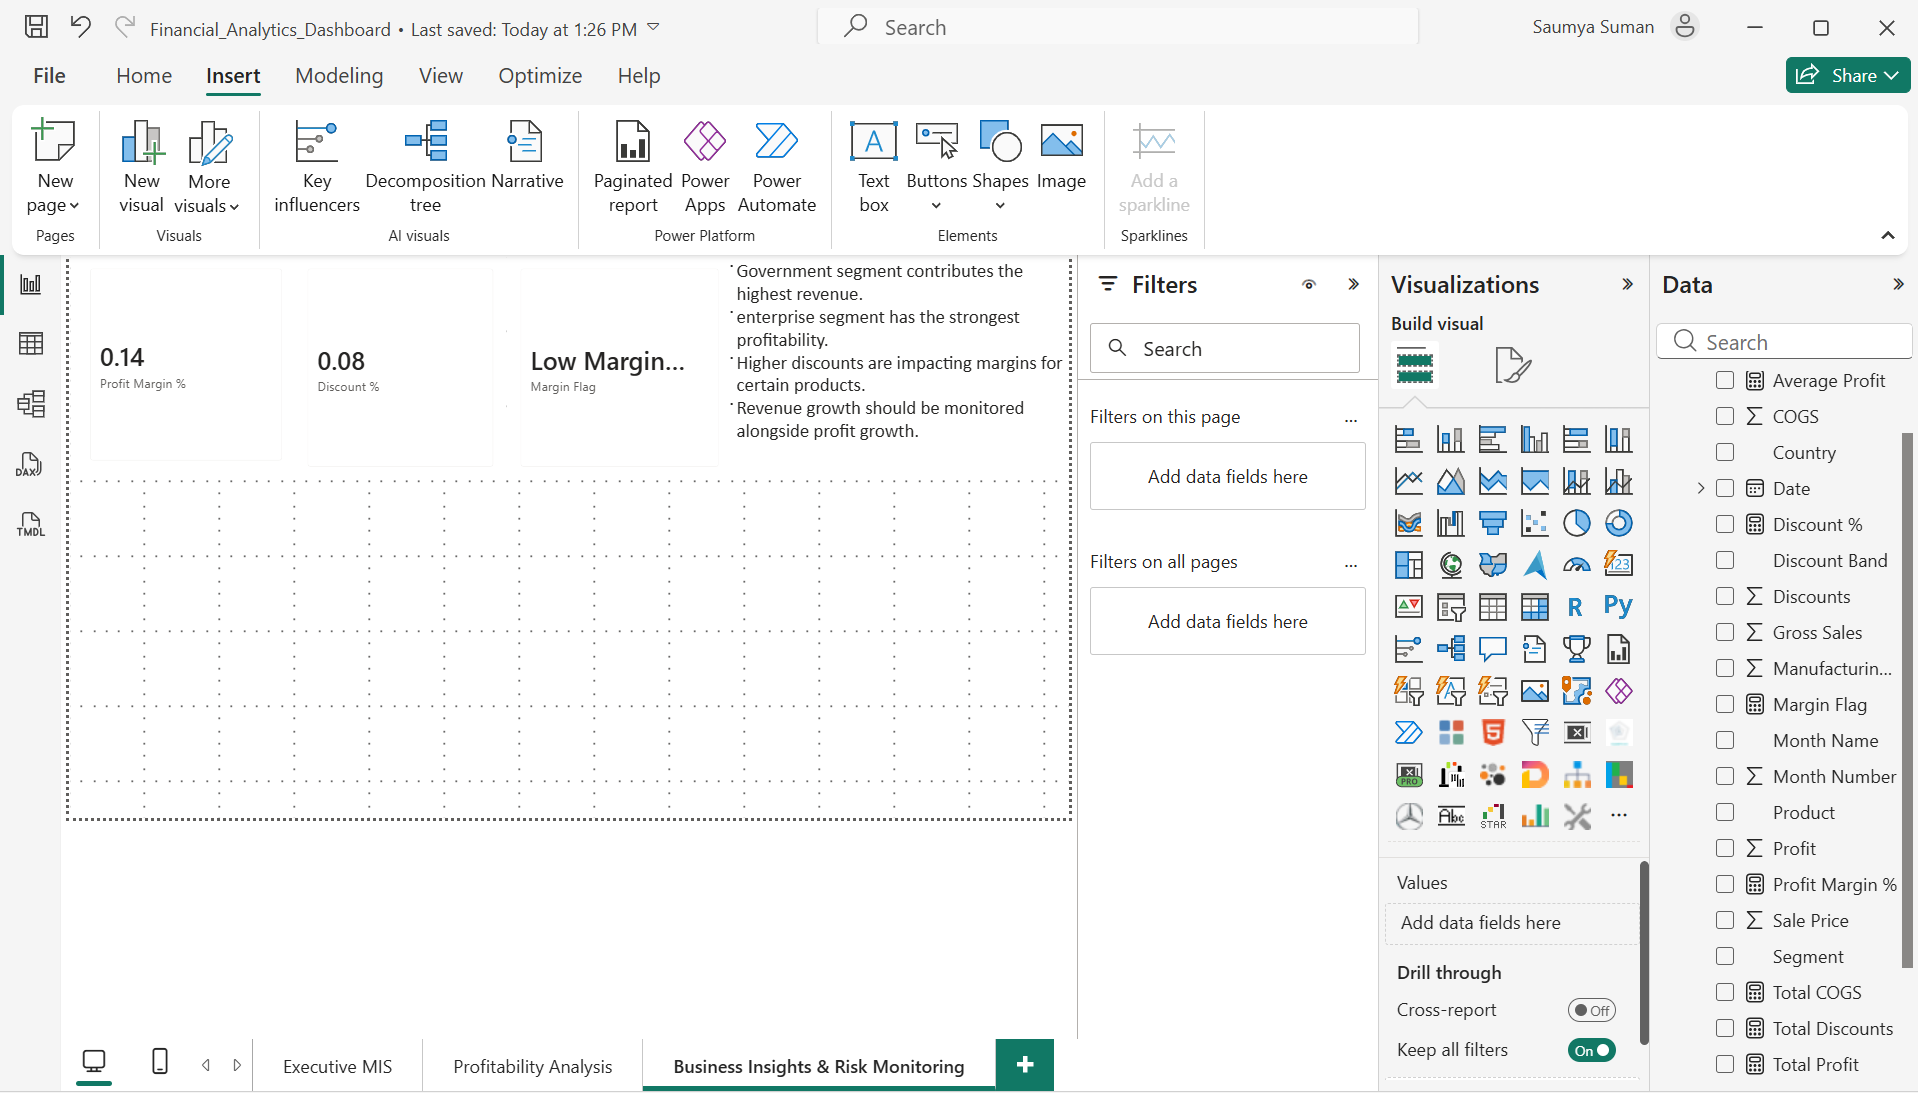

What the dashboard file says about the page in this screenshot:
{"tool":"powerbi","page":{"name":"Business Insights & Risk Monitoring","canvas":[1280,720],"ordinal":2},"visuals":[{"type":"cardVisual","fields":{"Data":["financials.Profit Margin %"]},"box":[10,0,280,280],"z":0},{"type":"cardVisual","fields":{"Data":["financials.Discount %"]},"box":[288,0,272,288],"z":1},{"type":"cardVisual","fields":{"Data":["financials.Margin Flag"]},"box":[560,0,288,288],"z":2},{"type":"textbox","box":[832,0,448,288],"z":3}]}

Visuals, with their boxes on the page's 1280x720 design canvas (x1, y1, x2, y2). These are canvas units, not pixel positions in the 1918x1093 screenshot, which may show the page scaled, cropped or inside an application window:
cardVisual - financials.Profit Margin %: detection(10, 0, 290, 280)
cardVisual - financials.Discount %: detection(288, 0, 560, 288)
cardVisual - financials.Margin Flag: detection(560, 0, 848, 288)
textbox: detection(832, 0, 1280, 288)
